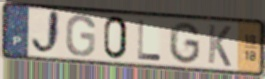0: (102, 15, 129, 61)
G: (167, 21, 202, 66), (64, 13, 97, 58)
J: (30, 8, 62, 58)
K: (206, 23, 233, 69)
L: (137, 19, 164, 63)
